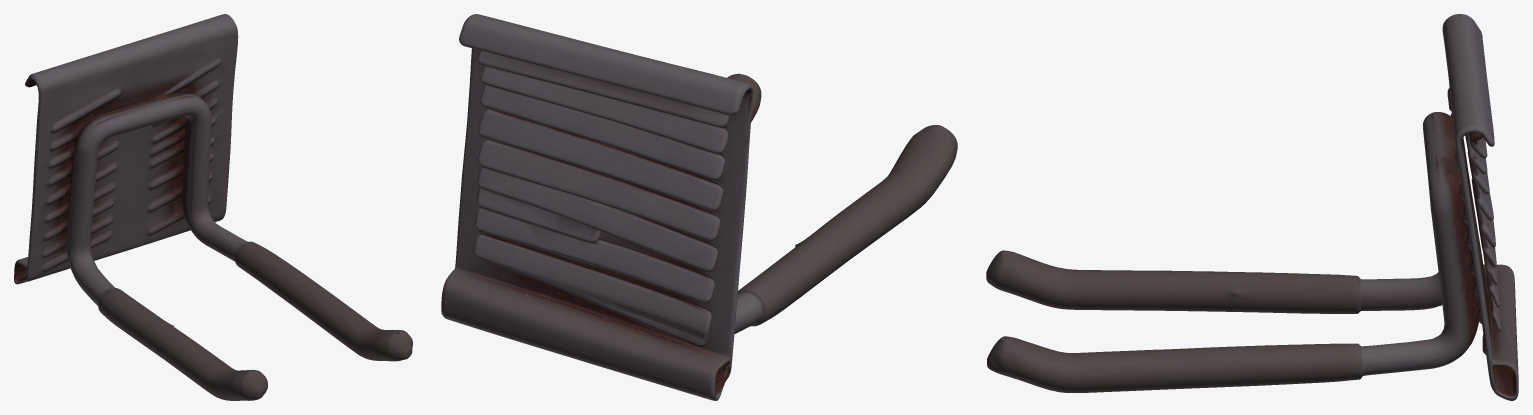
Rendered from Maxxclick-attachment-3.glb.
3 views of the same model, side by side, from view 1: azimuth 30°, elevation 25°; view 2: azimuth 150°, elevation 25°; view 3: azimuth 270°, elevation 25° (orthographic). The views are drawn at different scales.
Visible parts, largest first — view 1: material; view 2: material; view 3: material.
Boxes of the visible parts, left/top/right/bottom form: material: left=14, top=14, right=412, bottom=400; material: left=441, top=14, right=957, bottom=400; material: left=986, top=14, right=1518, bottom=400.
Size of the model in its own units: 0.5302 by 0.5642 by 0.9378.
Materials: 1 (1 with a texture image).
